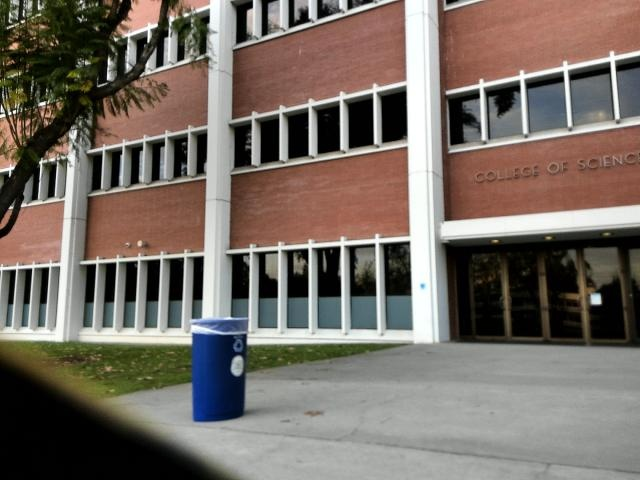trashcan_open: (180, 316, 251, 431)
